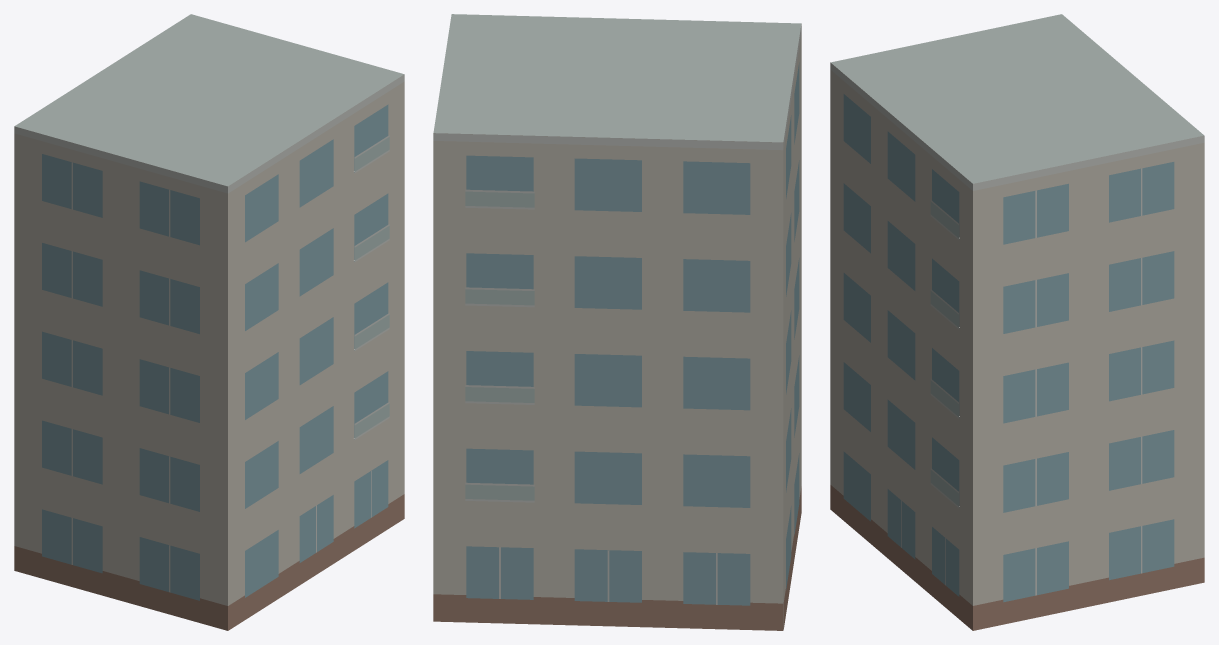
File: residential-1703b277-1372-4e68-b528-6a980336be83.glb
The picture shows the model from 3 angles, left to right: view 1: azimuth 30°, elevation 25°; view 2: azimuth 150°, elevation 25°; view 3: azimuth 270°, elevation 25°; orthographic projection. The views are drawn at different scales.
Parts seen in each view (by area): view 1: residential-1703b277-1372-4e68-b528-6a980336be83.tmp; view 2: residential-1703b277-1372-4e68-b528-6a980336be83.tmp; view 3: residential-1703b277-1372-4e68-b528-6a980336be83.tmp.
Part boxes in pixels (x1,y1,x2,y2): residential-1703b277-1372-4e68-b528-6a980336be83.tmp: (14, 14, 404, 630); residential-1703b277-1372-4e68-b528-6a980336be83.tmp: (433, 14, 801, 630); residential-1703b277-1372-4e68-b528-6a980336be83.tmp: (830, 14, 1204, 630).
Size of the model in its own units: 12.44 by 15.25 by 11.58.
